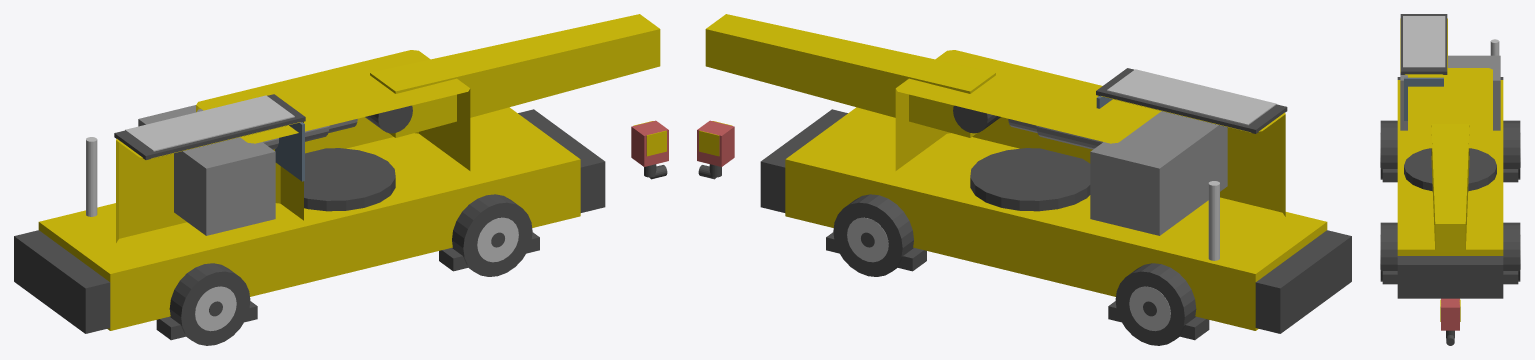
File: KATO_CR-250_Rigged.glb
3 renders of one model, left to right at view 1: azimuth 30°, elevation 25°; view 2: azimuth 150°, elevation 25°; view 3: azimuth 270°, elevation 25°, orthographic. The views are drawn at different scales.
Parts seen in each view (by area): view 1: Chassis, Turntable, MainBoom, Hook; view 2: Chassis, Turntable, MainBoom, Hook; view 3: Chassis, Turntable, MainBoom, Hook.
Part boxes in pixels (box(x1,y1,x2,y2)): Chassis: box(14, 94, 605, 345); Turntable: box(138, 50, 470, 235); MainBoom: box(365, 14, 660, 137); Hook: box(631, 120, 668, 179); Chassis: box(760, 68, 1351, 345); Turntable: box(895, 50, 1227, 235); MainBoom: box(705, 14, 1000, 137); Hook: box(697, 120, 734, 179); Chassis: box(1380, 14, 1520, 298); Turntable: box(1400, 55, 1500, 191); MainBoom: box(1431, 124, 1469, 251); Hook: box(1440, 298, 1460, 345).
Size of the model in its own units: 12.41 by 3.76 by 3.32.
